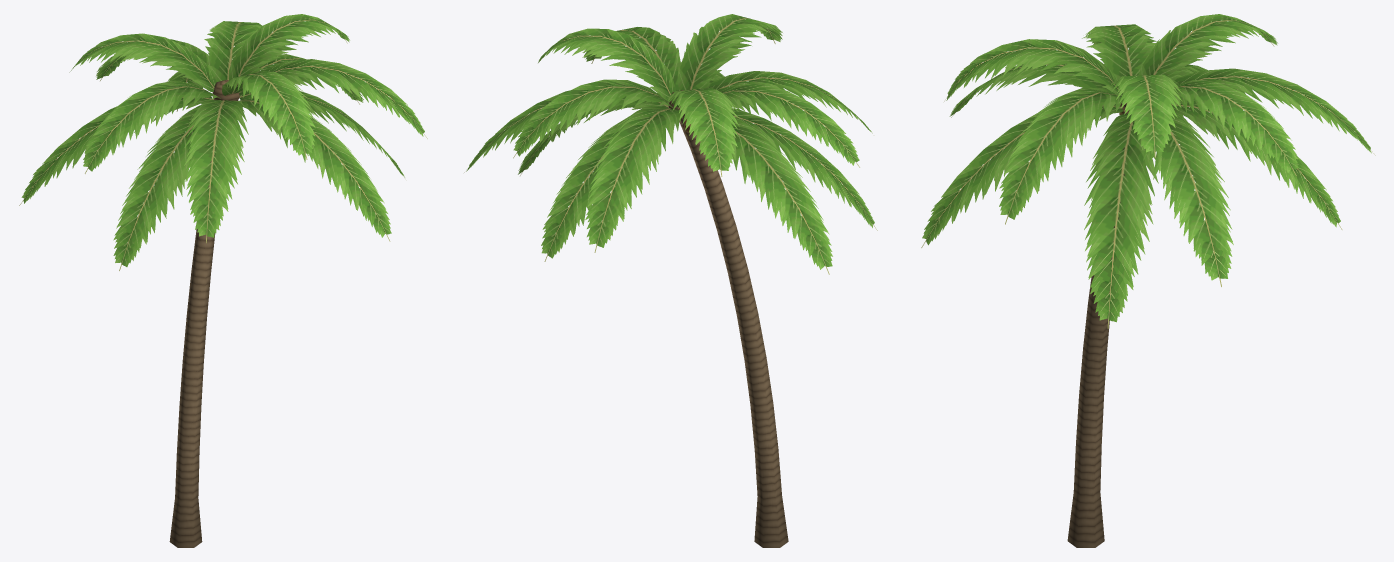
File: coconut_a_lod1.glb
3 views of the same model, side by side, from view 1: azimuth 30°, elevation 25°; view 2: azimuth 150°, elevation 25°; view 3: azimuth 270°, elevation 25° (orthographic). The views are drawn at different scales.
Visible parts, largest first — view 1: leaves, wood; view 2: leaves, wood; view 3: leaves, wood.
Part boxes in pixels (box(x1,y1,x2,y2)): leaves: box(19, 14, 427, 270); wood: box(169, 80, 239, 547); leaves: box(464, 14, 877, 274); wood: box(668, 90, 788, 547); leaves: box(921, 14, 1375, 328); wood: box(1067, 103, 1149, 547).
Size of the model in its own units: 6.84 by 8.55 by 6.8.
Materials: 2 (2 with a texture image).
